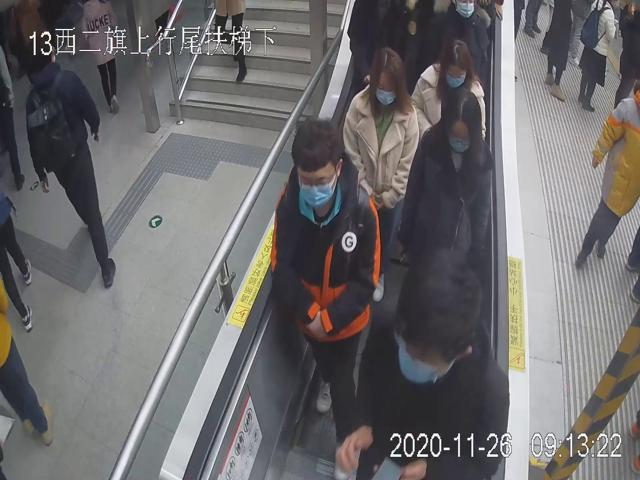person: (334, 250, 509, 480), (269, 112, 380, 448), (22, 32, 119, 291), (399, 86, 494, 275), (342, 47, 417, 228), (411, 38, 490, 140)
